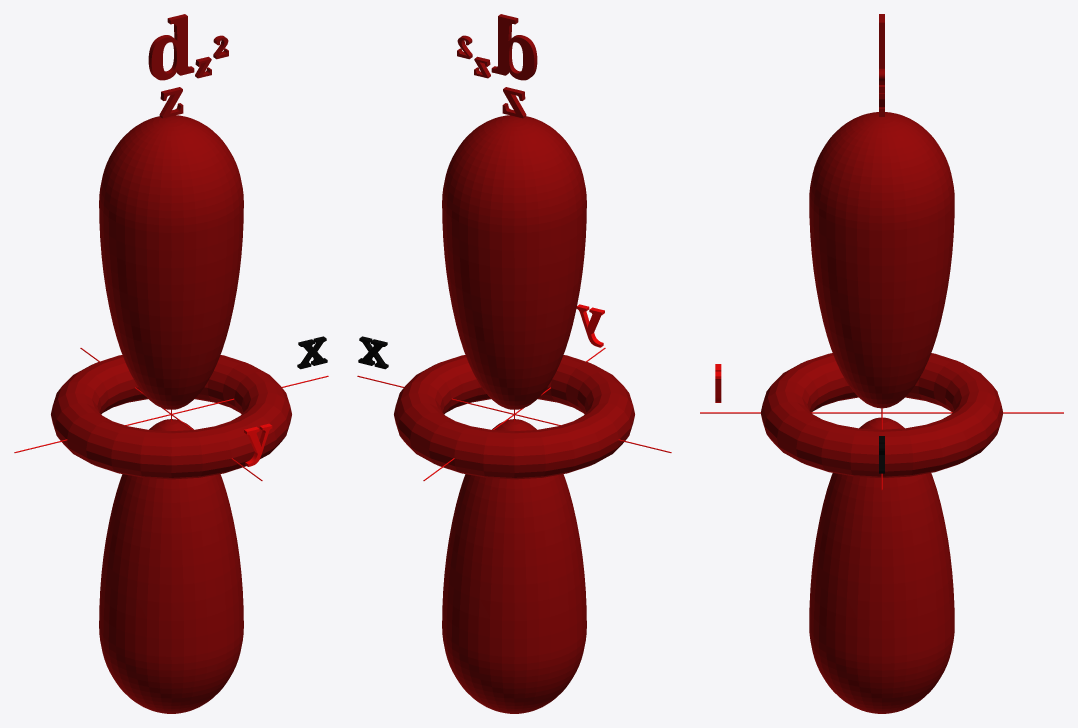
The picture shows the model from 3 angles, left to right: view 1: azimuth 30°, elevation 25°; view 2: azimuth 150°, elevation 25°; view 3: azimuth 270°, elevation 25°; orthographic projection.
Parts seen in each view (by area): view 1: Mesh_Mesh_head_geo001_lambert2SG001; view 2: Mesh_Mesh_head_geo001_lambert2SG001; view 3: Mesh_Mesh_head_geo001_lambert2SG001.
Boxes of the visible parts, x1=… form: Mesh_Mesh_head_geo001_lambert2SG001: x1=14, y1=14, x2=328, y2=713; Mesh_Mesh_head_geo001_lambert2SG001: x1=357, y1=14, x2=671, y2=713; Mesh_Mesh_head_geo001_lambert2SG001: x1=700, y1=14, x2=1063, y2=713.
Size of the model in its own units: 60 by 126 by 60.
